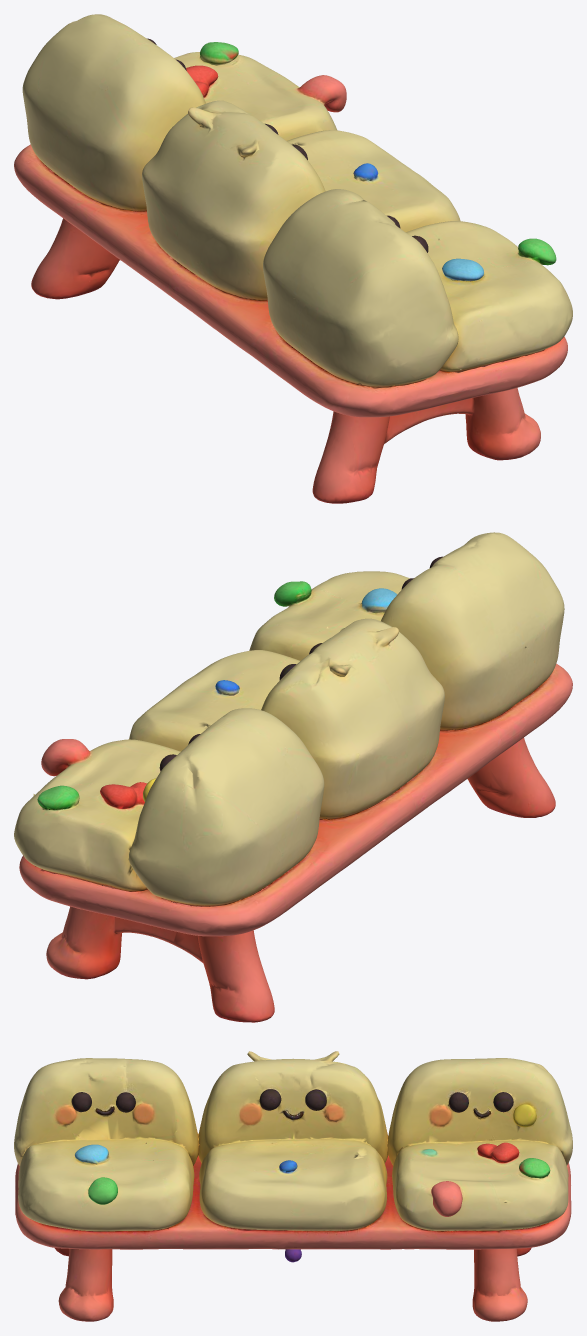
Rendered from env_nest_bench_02.glb.
3 renders of one model, top to bottom at view 1: azimuth 30°, elevation 25°; view 2: azimuth 150°, elevation 25°; view 3: azimuth 270°, elevation 25°, orthographic. The views are drawn at different scales.
Parts seen in each view (by area): view 1: tripo_node_810cd2eb-699d-4220-a1c5-aa21a4eb856b; view 2: tripo_node_810cd2eb-699d-4220-a1c5-aa21a4eb856b; view 3: tripo_node_810cd2eb-699d-4220-a1c5-aa21a4eb856b.
Boxes of the visible parts, x1,y1,x2,y2 form: tripo_node_810cd2eb-699d-4220-a1c5-aa21a4eb856b: [14, 14, 572, 503]; tripo_node_810cd2eb-699d-4220-a1c5-aa21a4eb856b: [14, 532, 572, 1022]; tripo_node_810cd2eb-699d-4220-a1c5-aa21a4eb856b: [14, 1051, 572, 1321].
Bounding box in the file's own units: 0.9881 × 0.9 × 2.24.
1 material, 1 textured.
